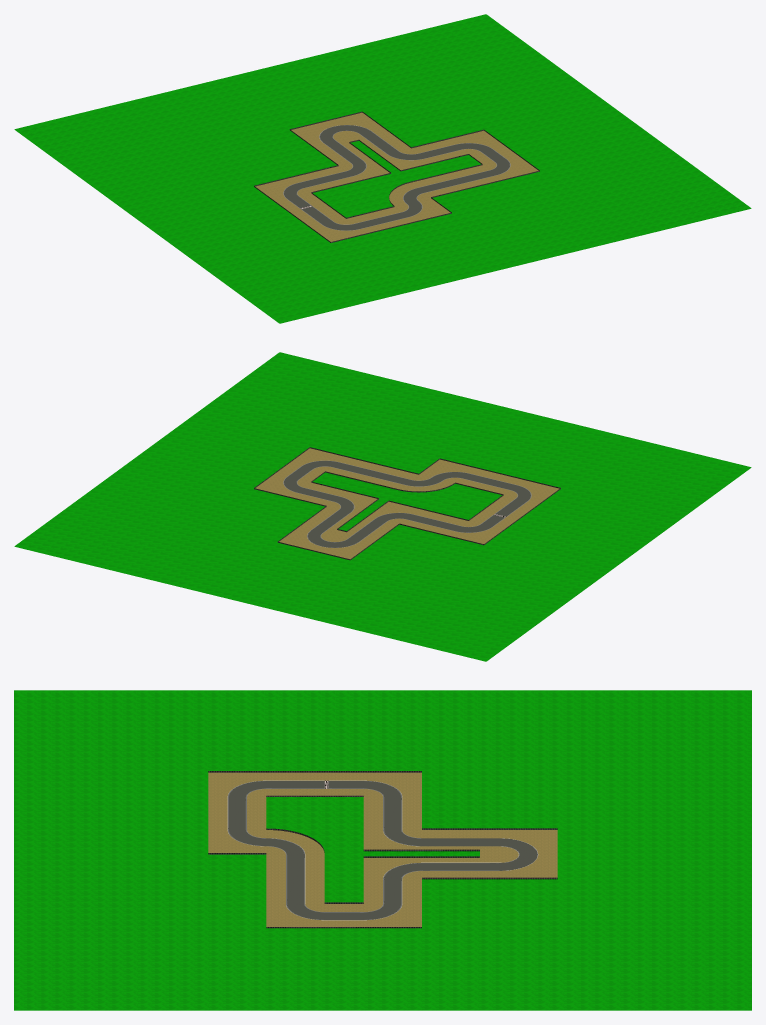
The picture shows the model from 3 angles, top to bottom: view 1: azimuth 30°, elevation 25°; view 2: azimuth 150°, elevation 25°; view 3: azimuth 270°, elevation 25°; orthographic projection. The views are drawn at different scales.
Parts seen in each view (by area): view 1: _2_SKP__grass, _2_SKP__dirt, _2_SKP__road, _2_SKP__fence_ex; view 2: _2_SKP__grass, _2_SKP__dirt, _2_SKP__road, _2_SKP__fence_ex; view 3: _2_SKP__grass, _2_SKP__dirt, _2_SKP__road, _2_SKP__fence_ex.
Boxes of the visible parts, <box> form: _2_SKP__grass: <box>14,14,751,323</box>; _2_SKP__dirt: <box>255,112,538,241</box>; _2_SKP__road: <box>283,125,510,230</box>; _2_SKP__fence_ex: <box>254,111,539,242</box>; _2_SKP__grass: <box>14,352,751,661</box>; _2_SKP__dirt: <box>255,448,559,559</box>; _2_SKP__road: <box>283,460,531,547</box>; _2_SKP__fence_ex: <box>254,447,560,560</box>; _2_SKP__grass: <box>14,690,751,1010</box>; _2_SKP__dirt: <box>208,772,557,926</box>; _2_SKP__road: <box>227,780,538,920</box>; _2_SKP__fence_ex: <box>208,771,557,928</box>.
Size of the model in its own units: 136500 by 300 by 133000.
5 materials, 5 textured.
